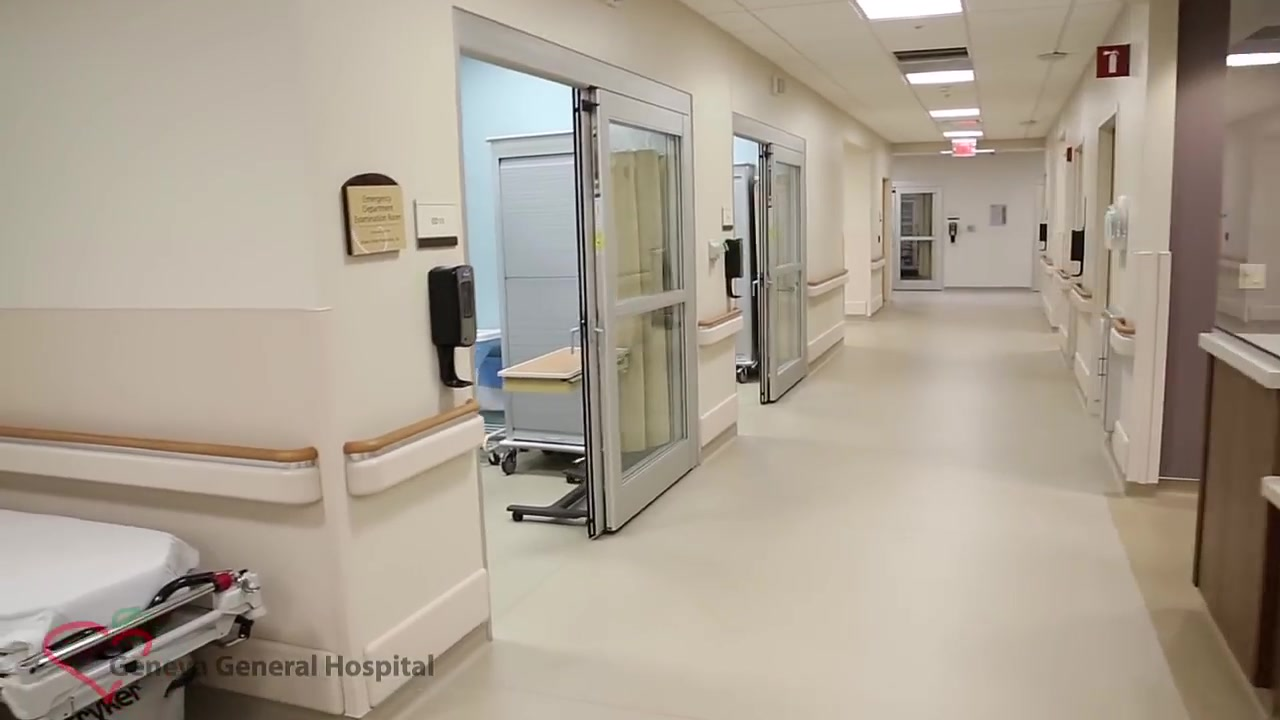curtain: (606, 141, 674, 451)
dispenser: (423, 262, 487, 394), (721, 233, 751, 304), (1068, 229, 1087, 279), (946, 220, 959, 250), (1036, 224, 1049, 253)
door_handle: (568, 328, 581, 356), (594, 327, 607, 353), (751, 280, 758, 299)
hallway_assist_bar: (1, 416, 326, 514), (343, 400, 486, 510), (696, 308, 746, 345), (1103, 316, 1138, 356), (807, 267, 850, 298), (1069, 281, 1092, 312)
hospital_bed: (1, 510, 260, 719)
table: (498, 344, 587, 518)
waste_bin: (476, 331, 512, 462)
